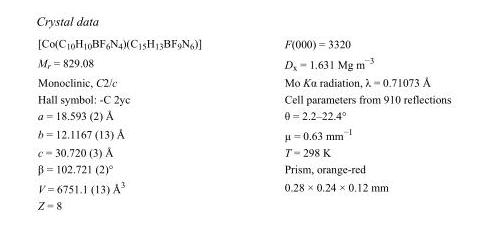table: (37, 36, 450, 211)
table column: (242, 36, 450, 211), (37, 36, 242, 211)
table row: (37, 52, 450, 73), (37, 123, 450, 143), (37, 177, 450, 196), (37, 73, 450, 90), (37, 106, 450, 123), (37, 143, 450, 160), (37, 160, 450, 177), (37, 36, 450, 52), (37, 90, 450, 106), (37, 196, 450, 211)
